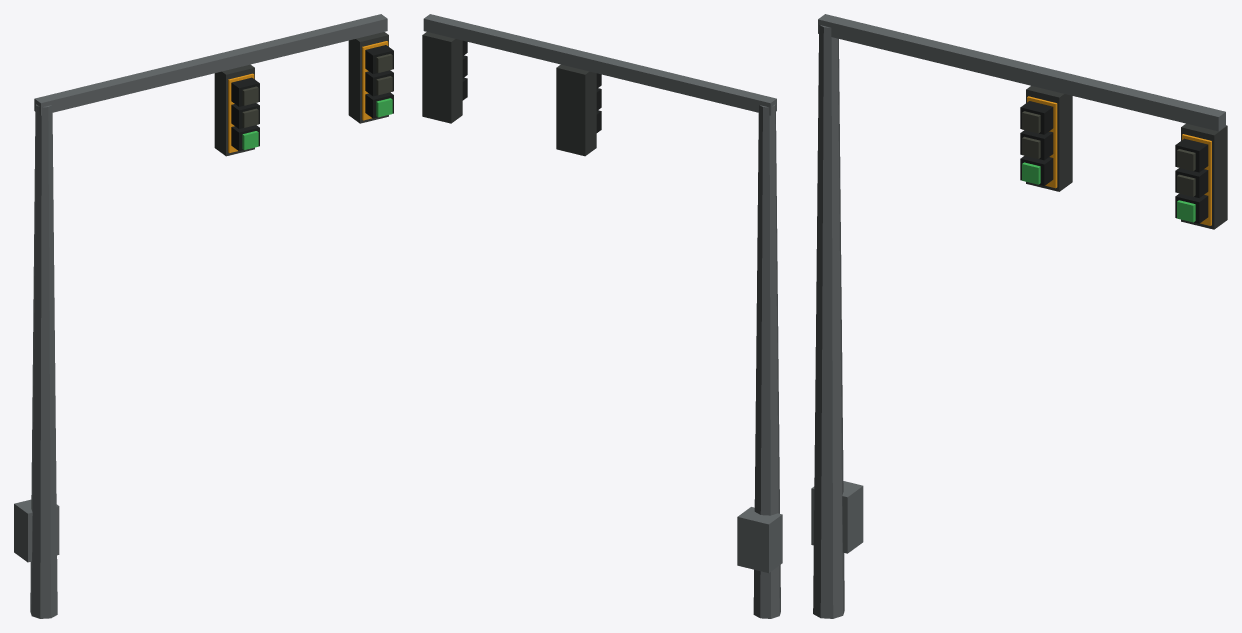
The model's file is signal1.glb.
The picture shows the model from 3 angles, left to right: view 1: azimuth 30°, elevation 25°; view 2: azimuth 150°, elevation 25°; view 3: azimuth 330°, elevation 25°; orthographic projection. The views are drawn at different scales.
Parts seen in each view (by area): view 1: signal1; view 2: signal1; view 3: signal1.
Boxes of the visible parts, x1=… form: signal1: x1=14, y1=14, x2=393, y2=618; signal1: x1=422, y1=14, x2=782, y2=618; signal1: x1=811, y1=14, x2=1227, y2=618.
Size of the model in its own units: 4.2 by 5.79 by 0.628.
